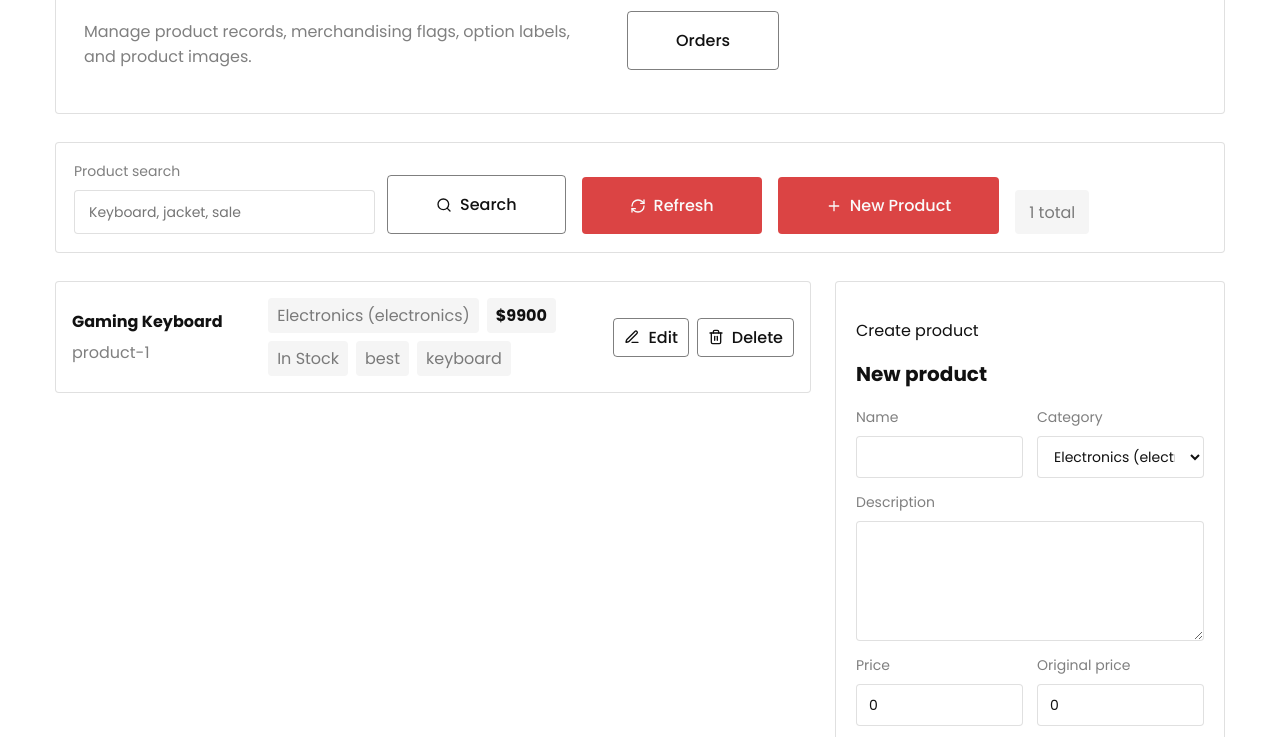
AdminProductsPage › shows variant API errors
(page scrolled)
Step 1. Click the button "Edit" → (651, 337), box [613, 318, 689, 356]
(page scrolled)
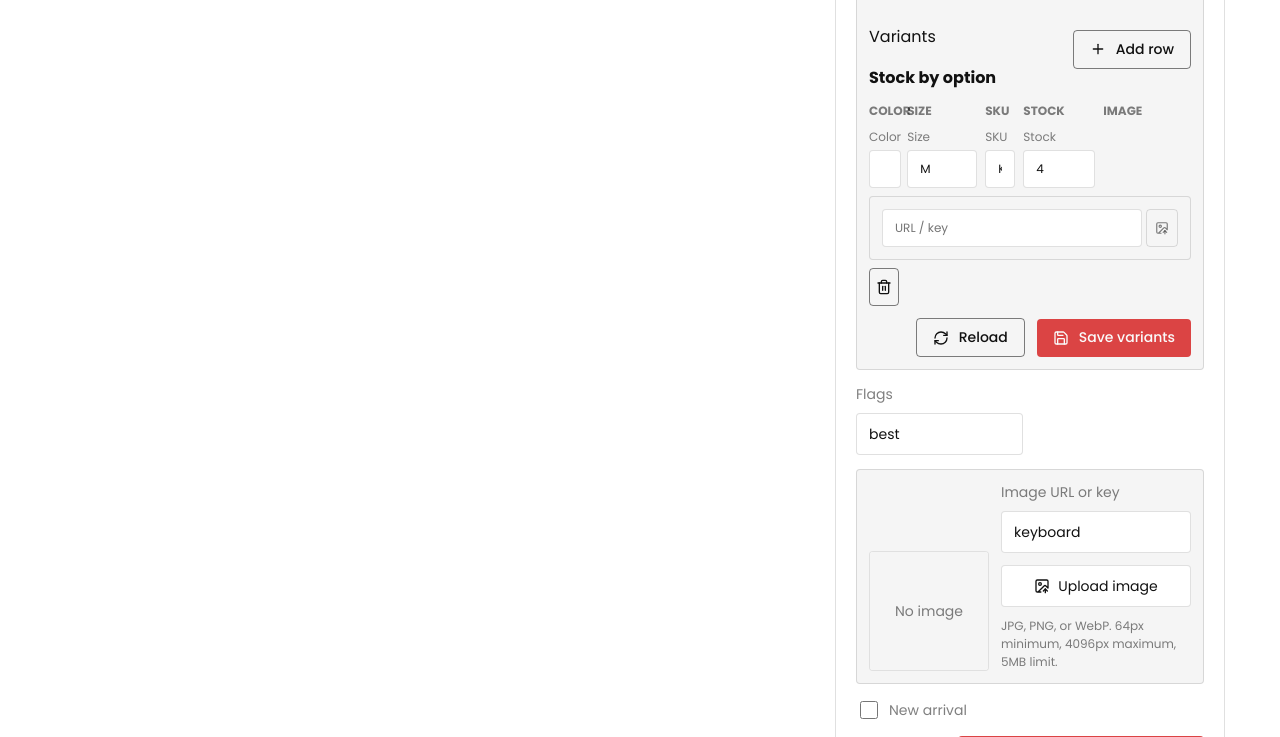
Expected: the field showing "KEY-BLK-M" is shown, [985, 150, 1015, 188]
Step 2. Click the button "Save variants" → (1114, 338), box [1037, 318, 1191, 356]
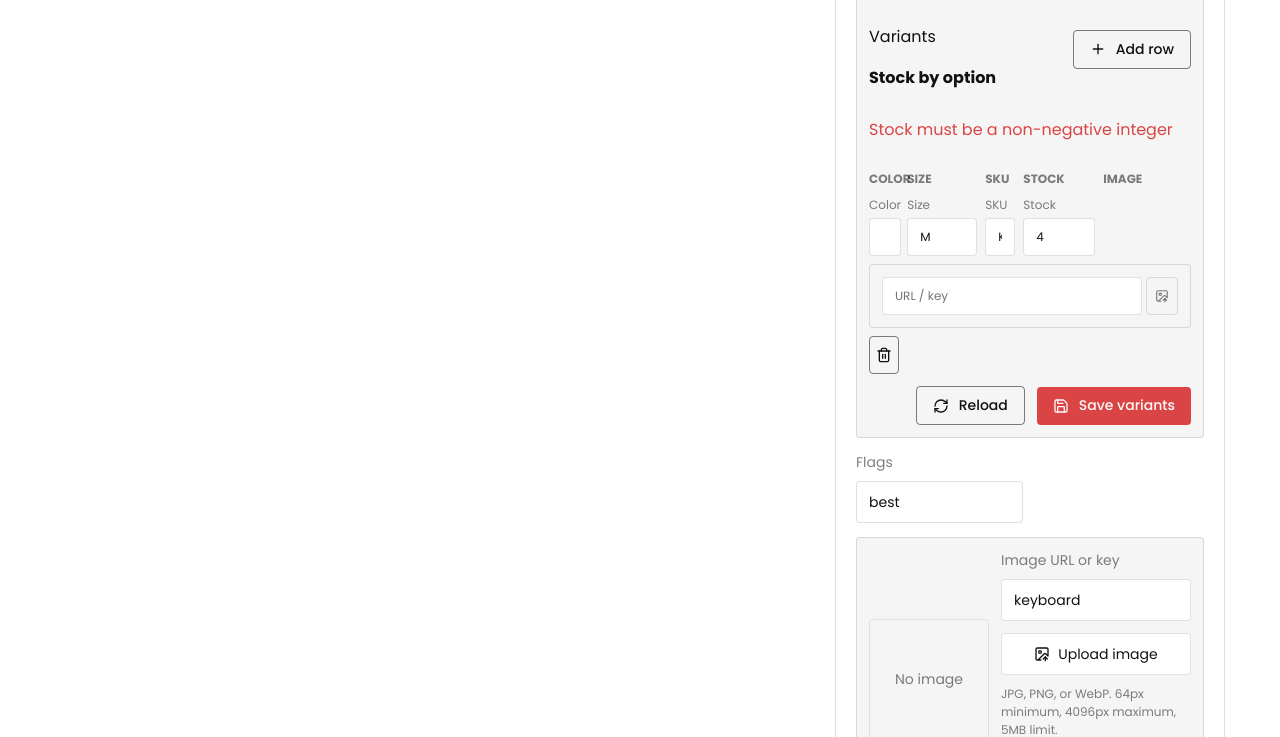
Expected: the text "Stock must be a non-negative integer" is shown, [869, 118, 1191, 142]
